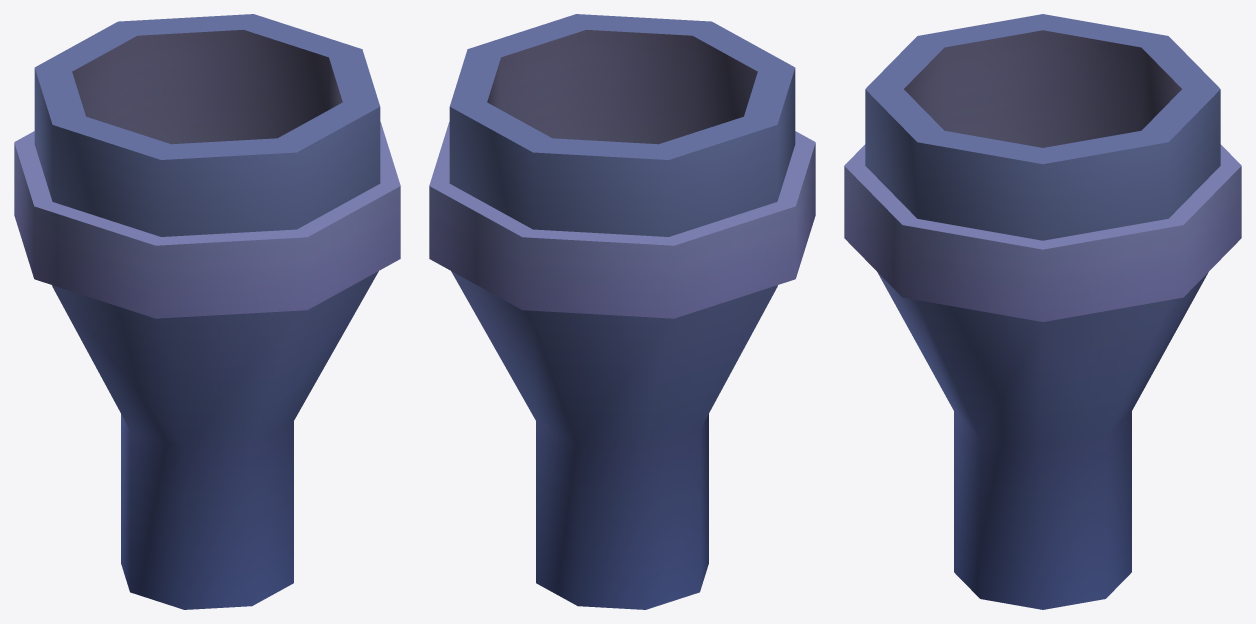
File: hopper-high-round.glb
The picture shows the model from 3 angles, left to right: view 1: azimuth 30°, elevation 25°; view 2: azimuth 150°, elevation 25°; view 3: azimuth 270°, elevation 25°; orthographic projection.
Visible parts, largest first — view 1: hopper-high-round; view 2: hopper-high-round; view 3: hopper-high-round.
Boxes of the visible parts, left/top/right/bottom form: hopper-high-round: left=14, top=14, right=400, bottom=609; hopper-high-round: left=429, top=14, right=815, bottom=609; hopper-high-round: left=844, top=14, right=1241, bottom=609.
Bounding box in the file's own units: 1.12 × 1.5 × 1.12.
1 material, 1 textured.
